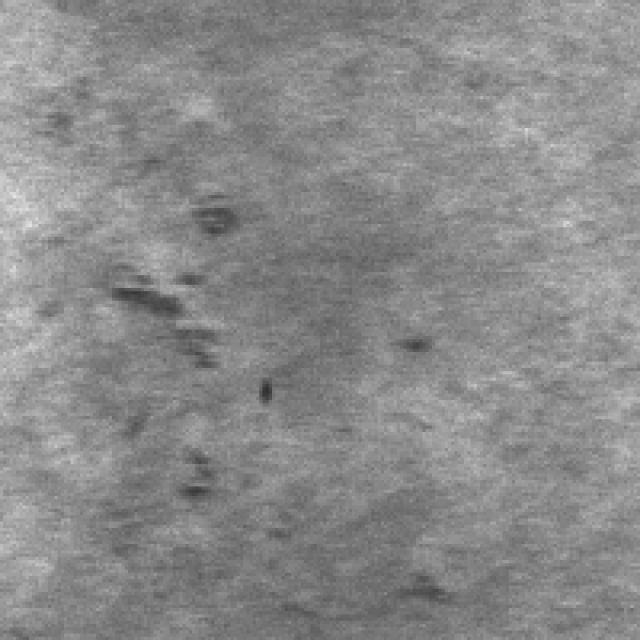rolled-in_scale: (96, 186, 234, 512)
